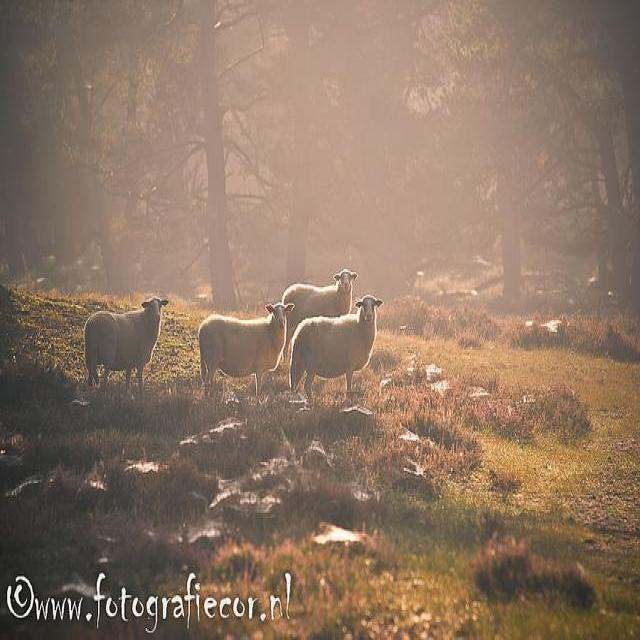Sheep: (290, 294, 384, 400), (201, 305, 294, 395), (85, 298, 168, 394), (283, 271, 359, 363)
